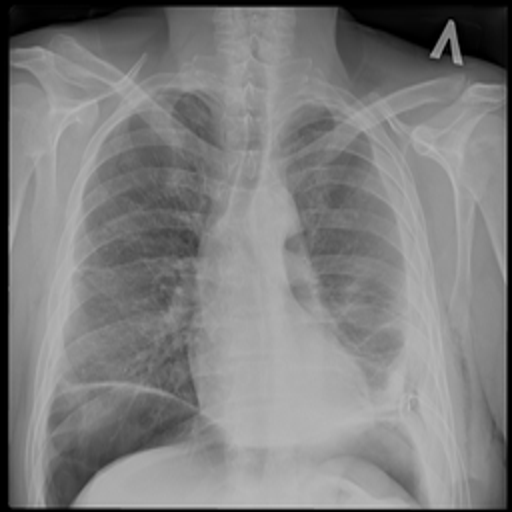TB: (360, 311, 442, 436)
